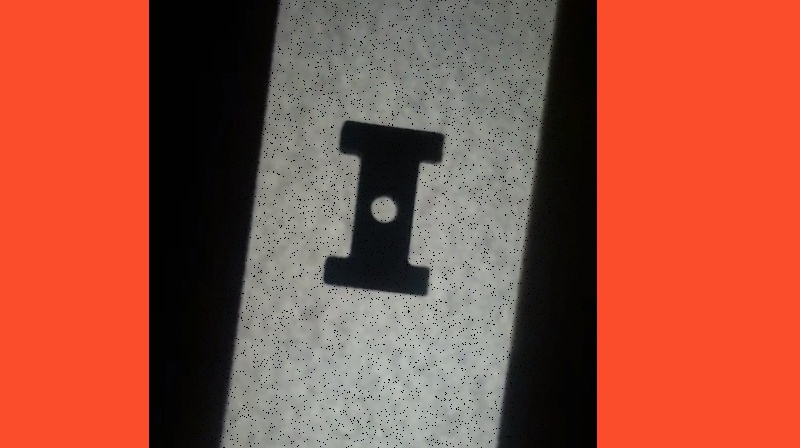O002: (321, 117, 448, 301)
